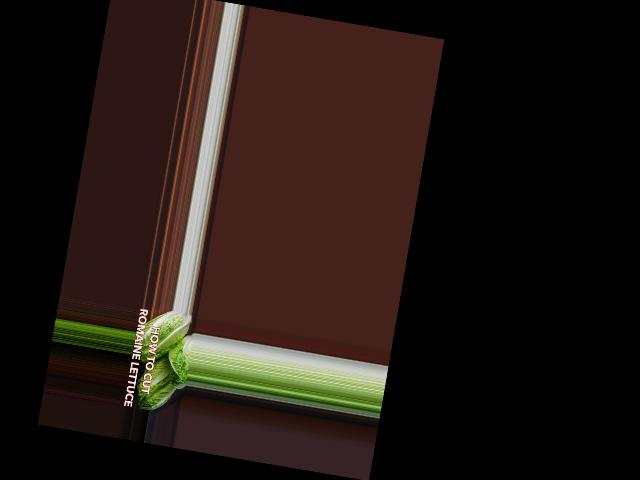lettuce: (128, 345, 185, 417)
